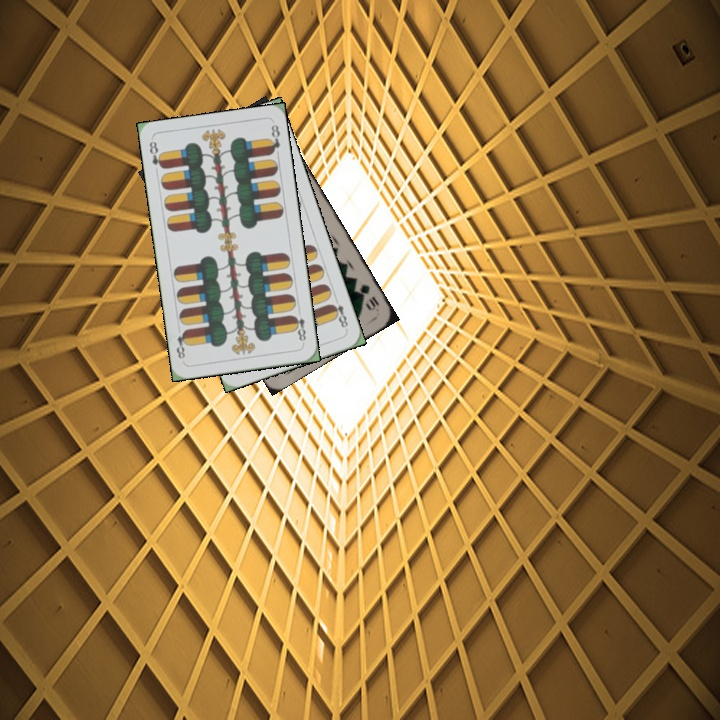E8: (327, 293, 350, 333), (289, 306, 308, 347), (145, 137, 166, 171)
G10: (355, 280, 382, 313)
